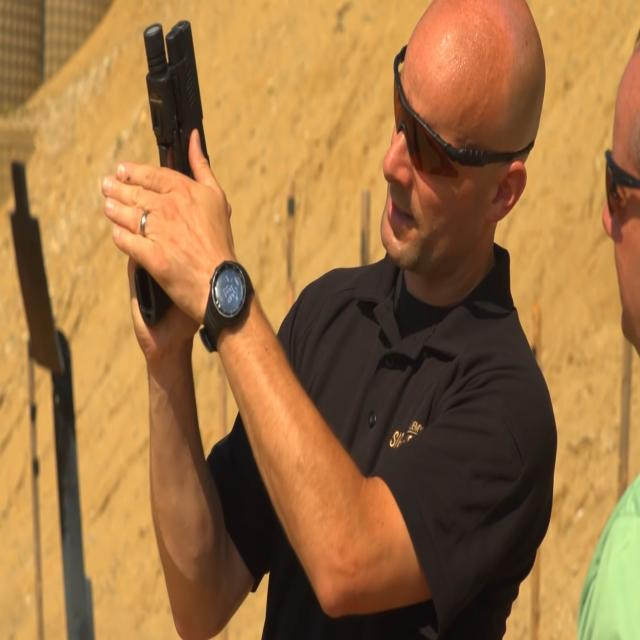Gun_Holder: (115, 12, 242, 314)
Person: (142, 0, 571, 640)
